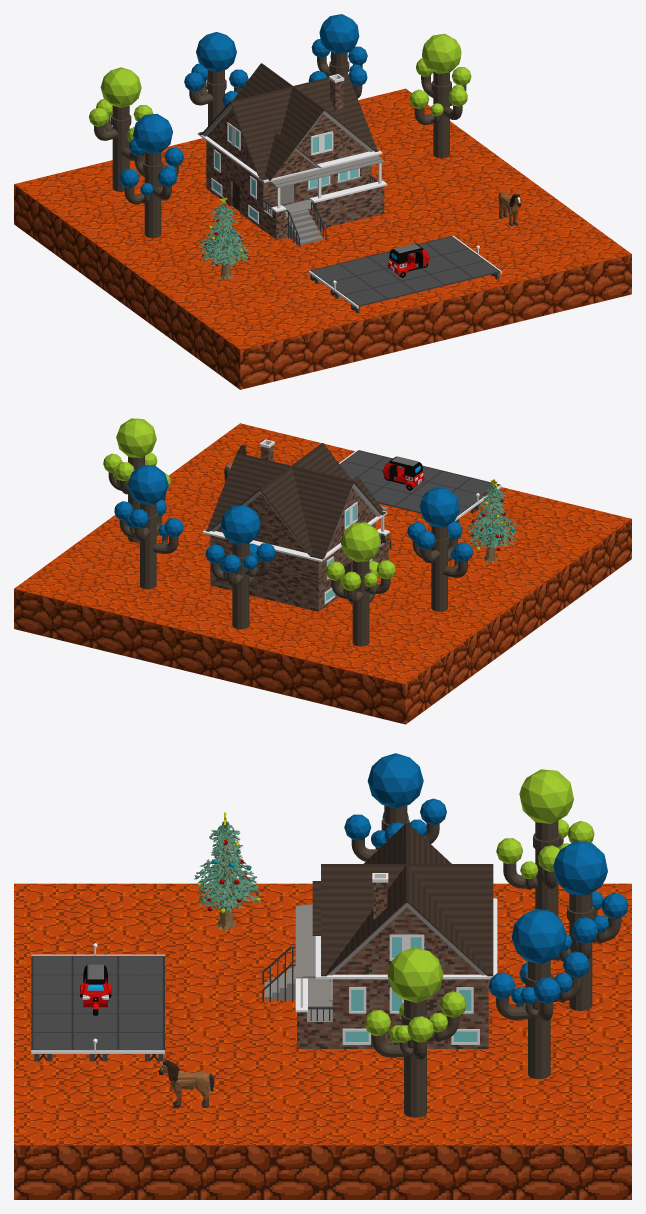
The picture shows the model from 3 angles, top to bottom: view 1: azimuth 30°, elevation 25°; view 2: azimuth 150°, elevation 25°; view 3: azimuth 270°, elevation 25°; orthographic projection. The views are drawn at different scales.
Parts seen in each view (by area): view 1: Cube.001, Cube.117, OBJRANDOM_CHRISTMAS_TREE, VEHICLES_TUC_TUC, ANIMAL_CABALLO; view 2: Cube.001, Cube.117, OBJRANDOM_CHRISTMAS_TREE, VEHICLES_TUC_TUC; view 3: Cube.001, Cube.117, OBJRANDOM_CHRISTMAS_TREE, ANIMAL_CABALLO, VEHICLES_TUC_TUC.
Part boxes in pixels (x1=…): Cube.001: x1=14, y1=14, x2=631, y2=389; Cube.117: x1=197, y1=63, x2=387, y2=246; OBJRANDOM_CHRISTMAS_TREE: x1=198, y1=196, x2=250, y2=280; VEHICLES_TUC_TUC: x1=387, y1=243, x2=429, y2=277; ANIMAL_CABALLO: x1=498, y1=192, x2=521, y2=226; Cube.001: x1=14, y1=418, x2=631, y2=724; Cube.117: x1=202, y1=439, x2=391, y2=611; OBJRANDOM_CHRISTMAS_TREE: x1=466, y1=479, x2=516, y2=563; VEHICLES_TUC_TUC: x1=382, y1=456, x2=424, y2=490; Cube.001: x1=14, y1=753, x2=631, y2=1199; Cube.117: x1=262, y1=823, x2=497, y2=1048; OBJRANDOM_CHRISTMAS_TREE: x1=194, y1=812, x2=261, y2=930; ANIMAL_CABALLO: x1=159, y1=1059, x2=214, y2=1108; VEHICLES_TUC_TUC: x1=80, y1=964, x2=111, y2=1015.
Bounding box in the file's own units: 4000 × 1667 × 4000.
38 materials, 5 textured.
